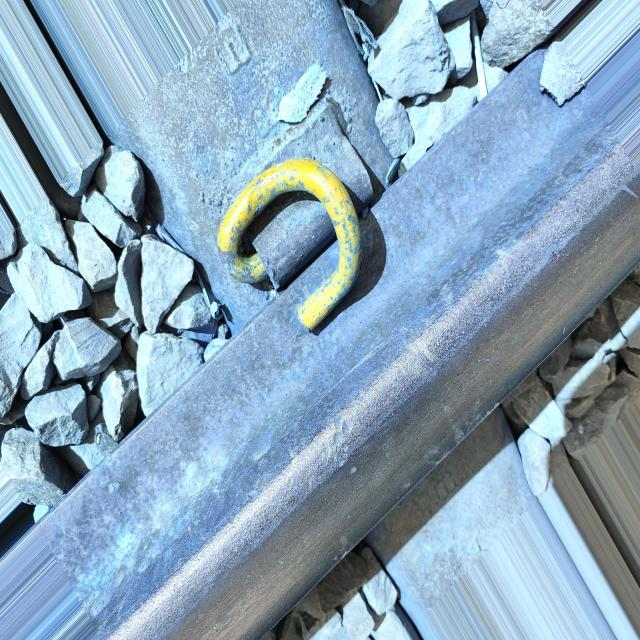Good Fasteners: (218, 64, 372, 329)
